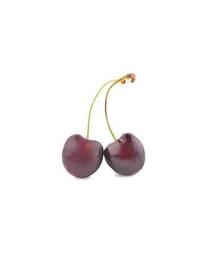cherry: (104, 133, 146, 177), (62, 133, 102, 179)
